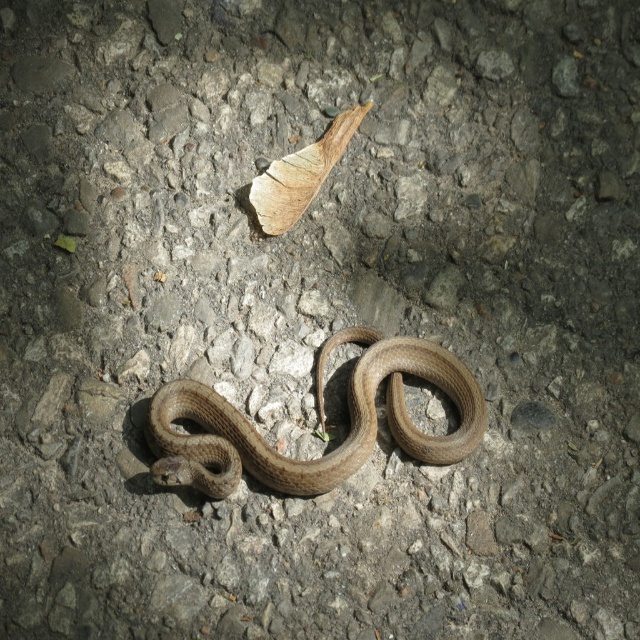Snake: (150, 325, 488, 499)
